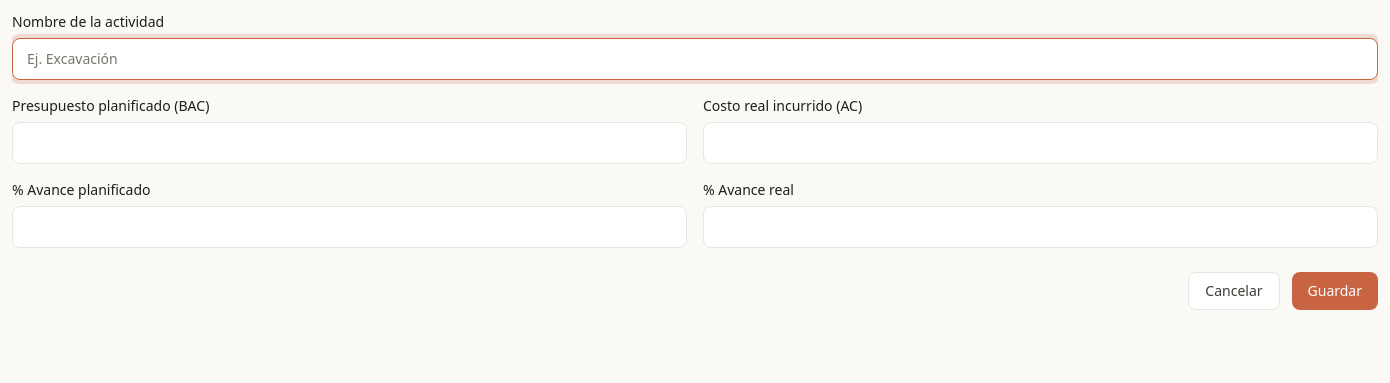
Test: FormularioActividad › shows a validation error when bac is negative
Type "Excavación" into the field labelled "Nombre de la actividad" at [695, 59], box [12,38,1378,80]
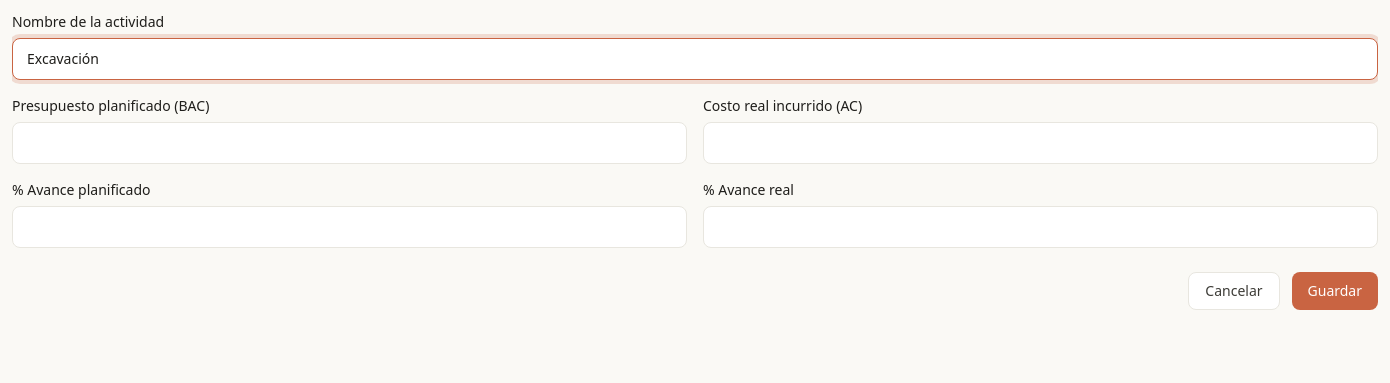
Type "-1" into the number field labelled "Presupuesto planificado (BAC)" at [350, 143], box [12,122,687,164]
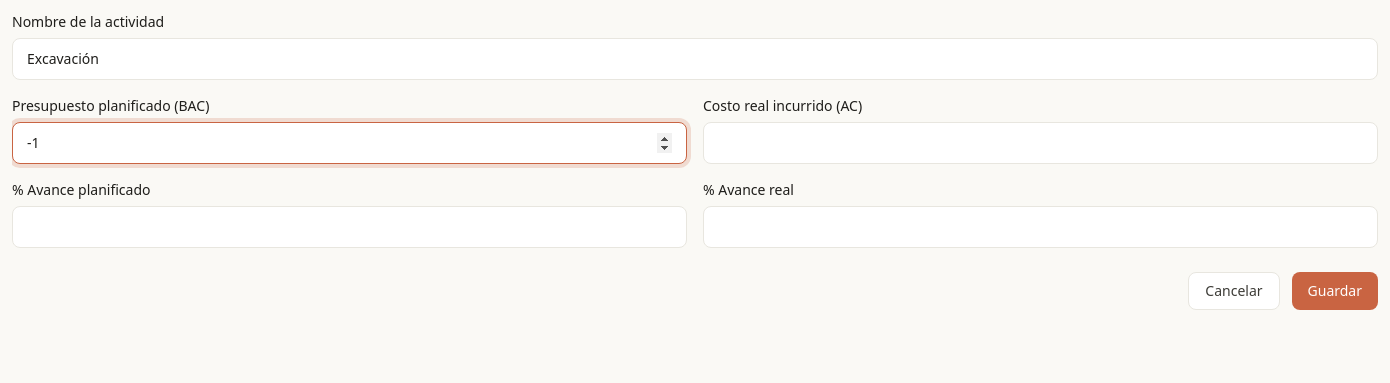
Click the button "Guardar" at [1335, 291], box [1292,272,1378,310]
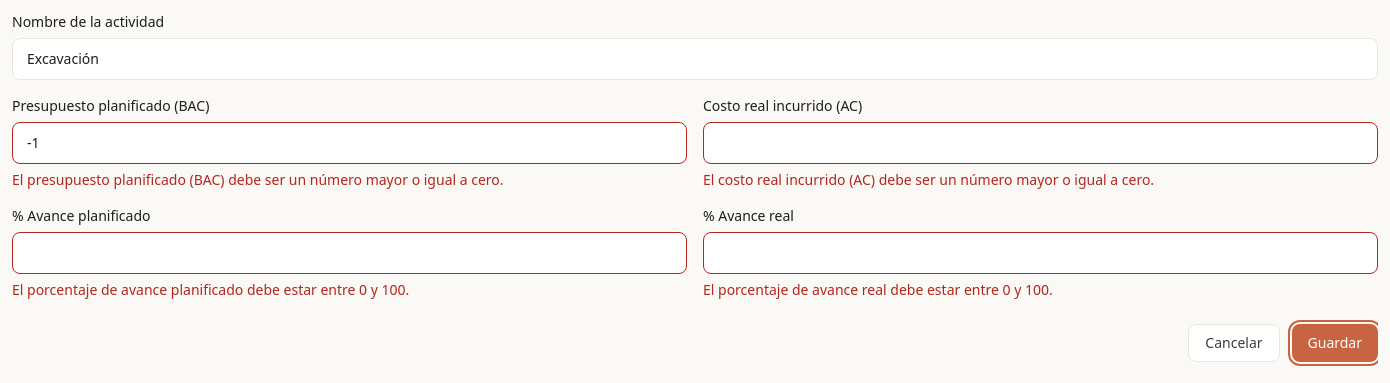
Check: the text "El presupuesto planificado (BAC) debe ser un número mayor o igual a cero." is shown, box [12,170,504,189]
